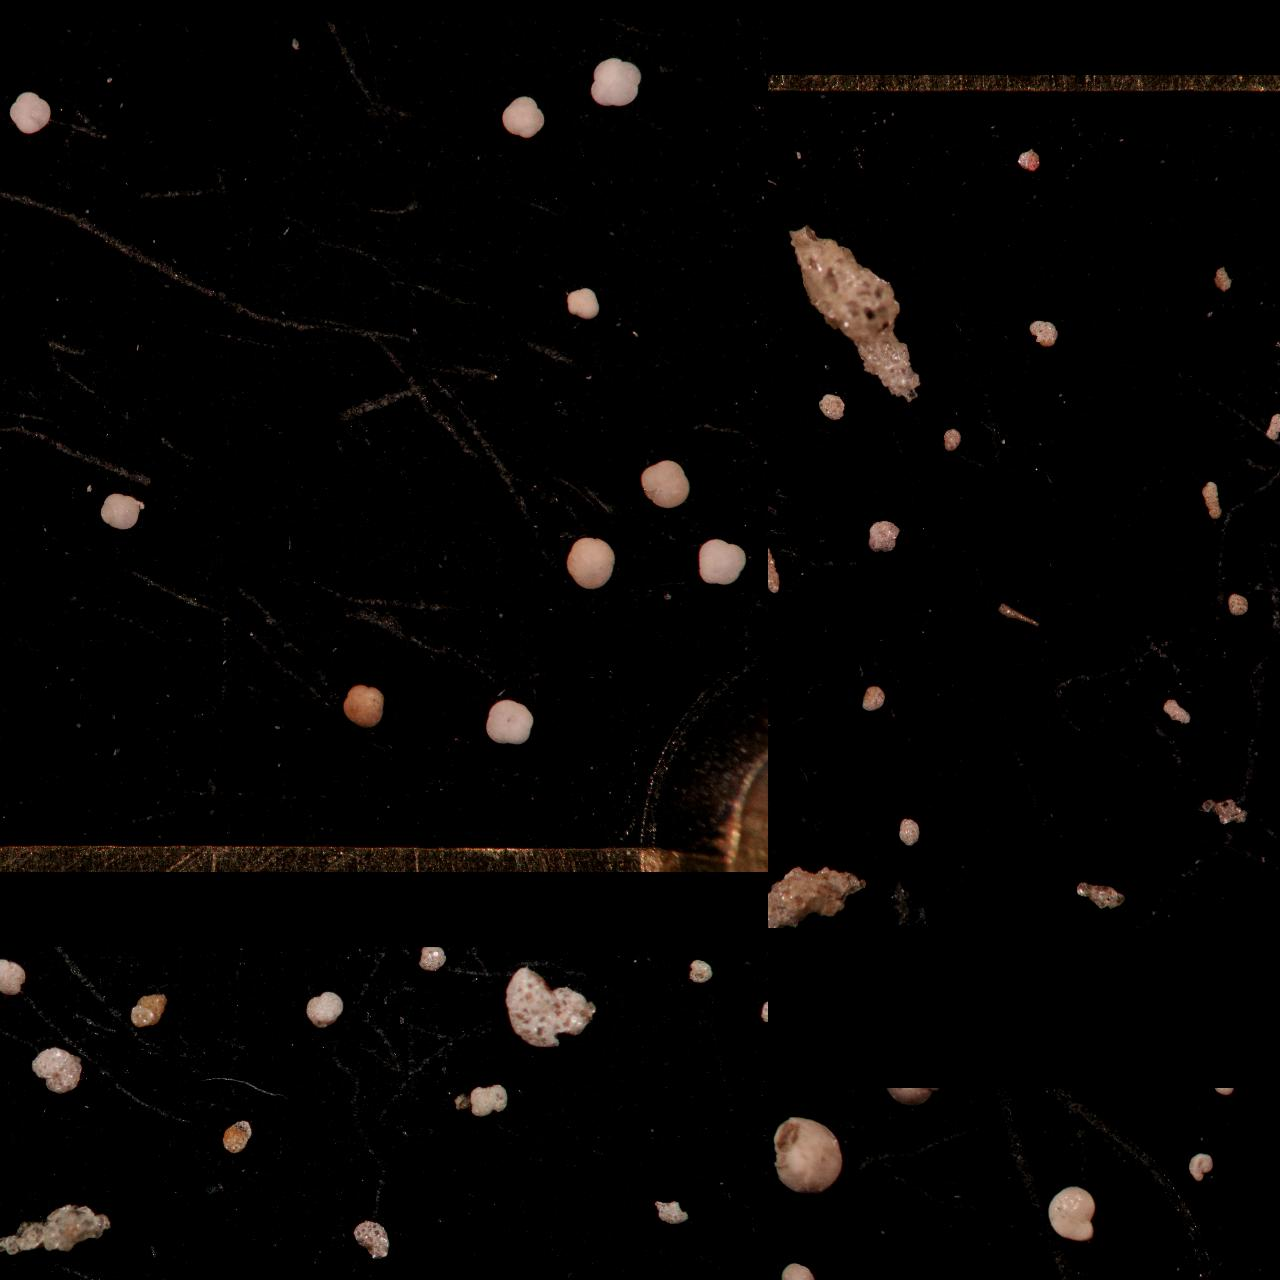agglutinated: (783, 226, 921, 400), (504, 966, 599, 1048), (0, 1200, 113, 1254), (768, 869, 870, 926), (32, 1046, 84, 1094), (41, 947, 109, 982), (768, 621, 799, 689), (306, 989, 346, 1028), (470, 1081, 511, 1117), (354, 1219, 390, 1259), (0, 978, 23, 1039), (1075, 880, 1128, 907), (130, 992, 168, 1027), (1198, 799, 1248, 823), (867, 519, 903, 552), (223, 1118, 253, 1152), (999, 604, 1043, 626), (0, 958, 27, 994), (654, 1198, 692, 1224), (1200, 479, 1224, 517), (1027, 319, 1060, 345), (768, 454, 787, 497), (1158, 697, 1191, 722), (817, 393, 847, 417), (768, 190, 787, 229), (686, 956, 715, 981), (768, 561, 787, 599), (0, 1158, 19, 1196), (768, 315, 788, 349), (898, 818, 920, 846), (418, 947, 447, 969), (372, 947, 404, 966), (862, 685, 886, 709), (1015, 149, 1041, 171), (1225, 593, 1251, 614), (707, 947, 740, 964), (768, 546, 779, 592), (768, 390, 787, 418), (0, 1210, 13, 1245), (1212, 266, 1232, 288), (768, 646, 783, 672), (768, 539, 784, 563), (768, 166, 783, 191), (942, 429, 961, 449), (526, 947, 549, 964), (1267, 411, 1280, 440), (592, 947, 620, 960), (768, 407, 779, 434), (155, 947, 182, 959), (768, 765, 782, 788), (768, 461, 781, 484), (0, 1231, 13, 1254), (768, 805, 781, 828), (0, 1155, 11, 1182), (768, 531, 781, 552), (768, 782, 779, 803), (0, 947, 14, 965), (0, 947, 15, 962), (760, 999, 768, 1023), (0, 947, 13, 960), (768, 324, 777, 338), (0, 947, 11, 959)
calcareous: (770, 1114, 845, 1196), (1047, 1186, 1097, 1240), (1186, 1152, 1216, 1179), (778, 1260, 817, 1280)
planktic: (588, 54, 644, 105), (565, 535, 617, 588), (639, 456, 692, 508), (484, 697, 536, 744), (697, 537, 747, 585), (341, 682, 387, 730), (7, 88, 53, 134), (499, 94, 546, 138), (98, 490, 147, 530), (0, 468, 25, 518), (565, 286, 600, 318), (0, 210, 22, 254)
